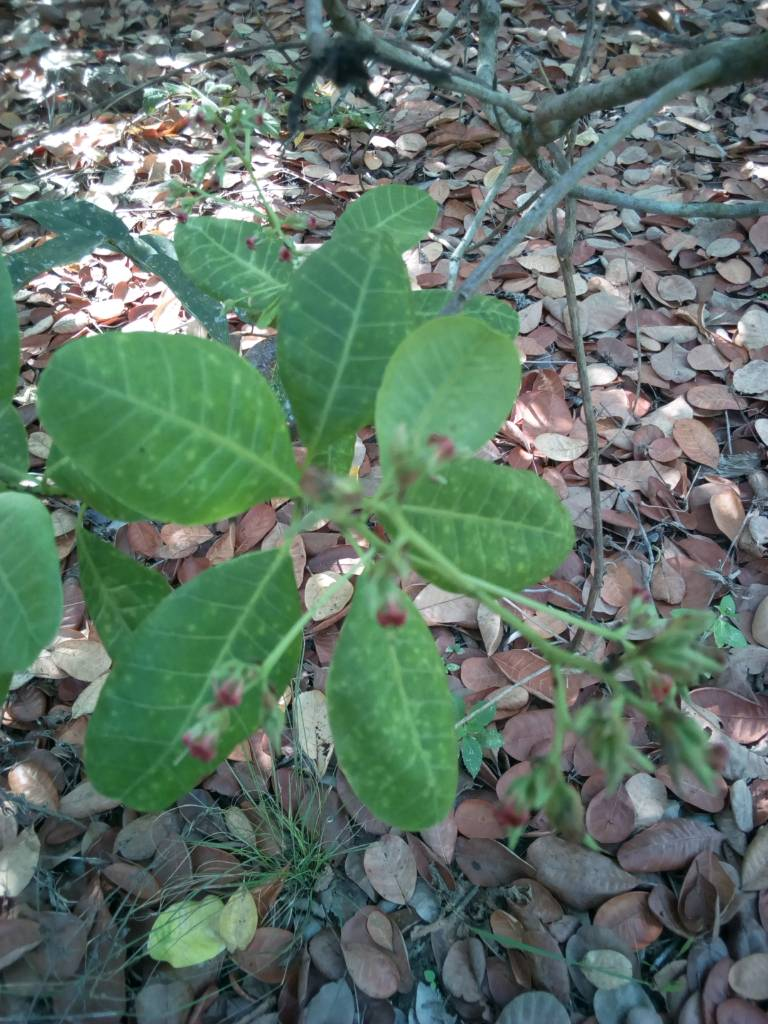Alternariose: (83, 549, 304, 805), (38, 324, 291, 524), (330, 560, 457, 827), (377, 457, 575, 594)
